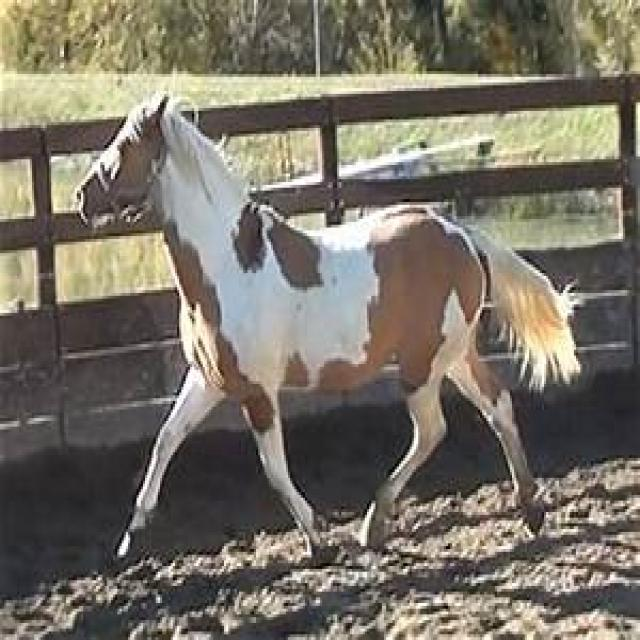horse: (72, 88, 582, 563)
